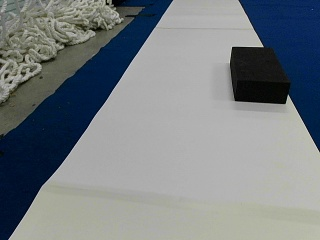block: (230, 46, 289, 103)
